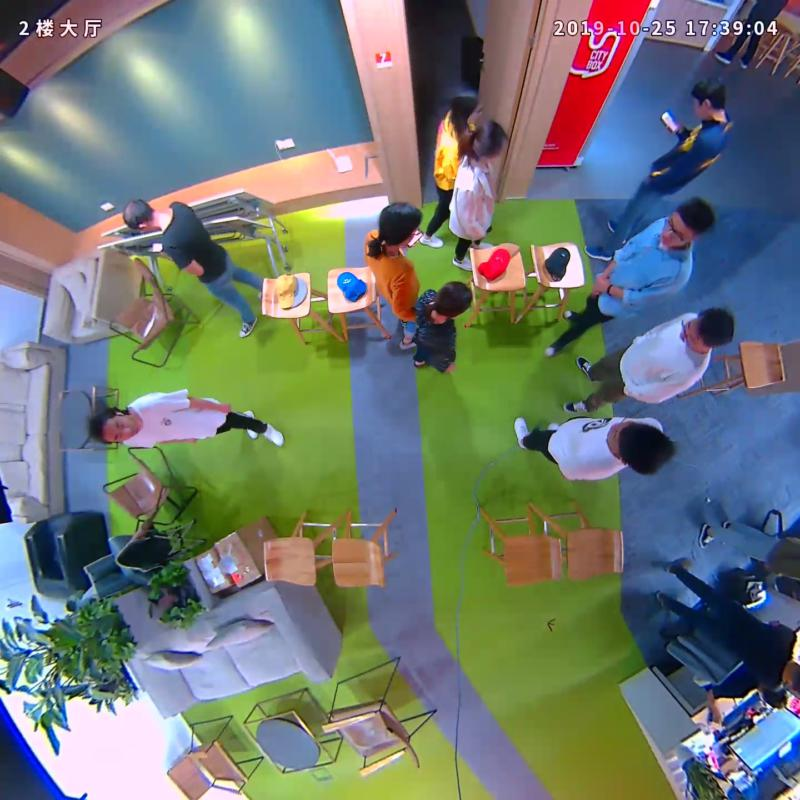head: (608, 420, 675, 475), (660, 196, 714, 249), (683, 307, 735, 351), (379, 202, 423, 250), (88, 407, 141, 446), (471, 119, 509, 165), (691, 76, 727, 121), (433, 281, 474, 319), (452, 88, 483, 125), (121, 197, 153, 232)
